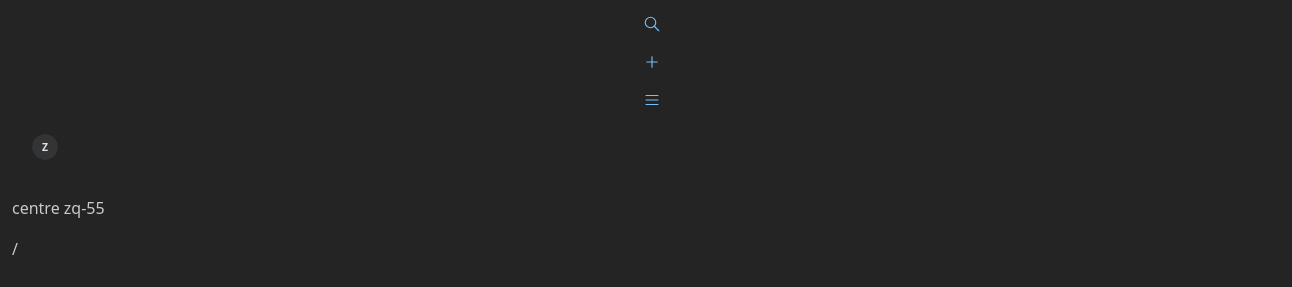
Test case: below the threshold the left column is always the rail (D3) › Expand tree shows the expanded column and adds nav-overlay-open — DoD-6
Click the button named "expand tree" at (652, 100), box 638,86 -> 666,114
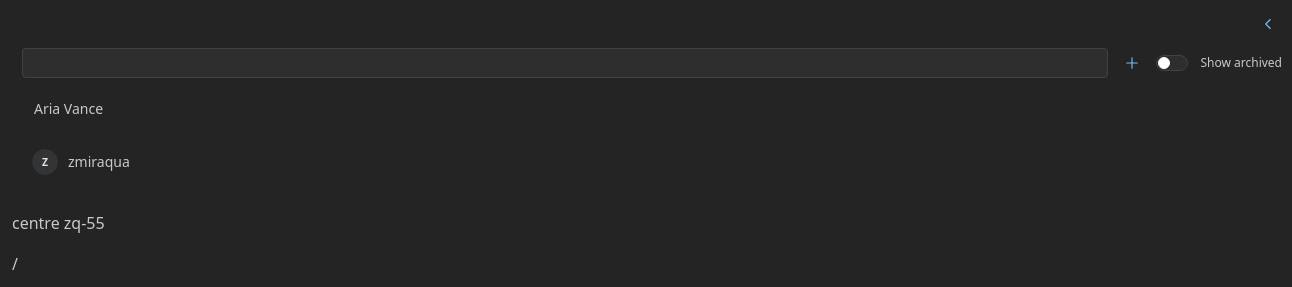
Expected: the button named "collapse tree" is shown, 1254,10 -> 1282,38
Expected: the button with aria-label "user menu" is shown, 22,139 -> 1282,185
